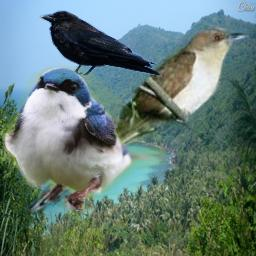Crow: (38, 10, 162, 79)
Cuckoo: (23, 25, 255, 222)
Swallow: (2, 66, 167, 211)
